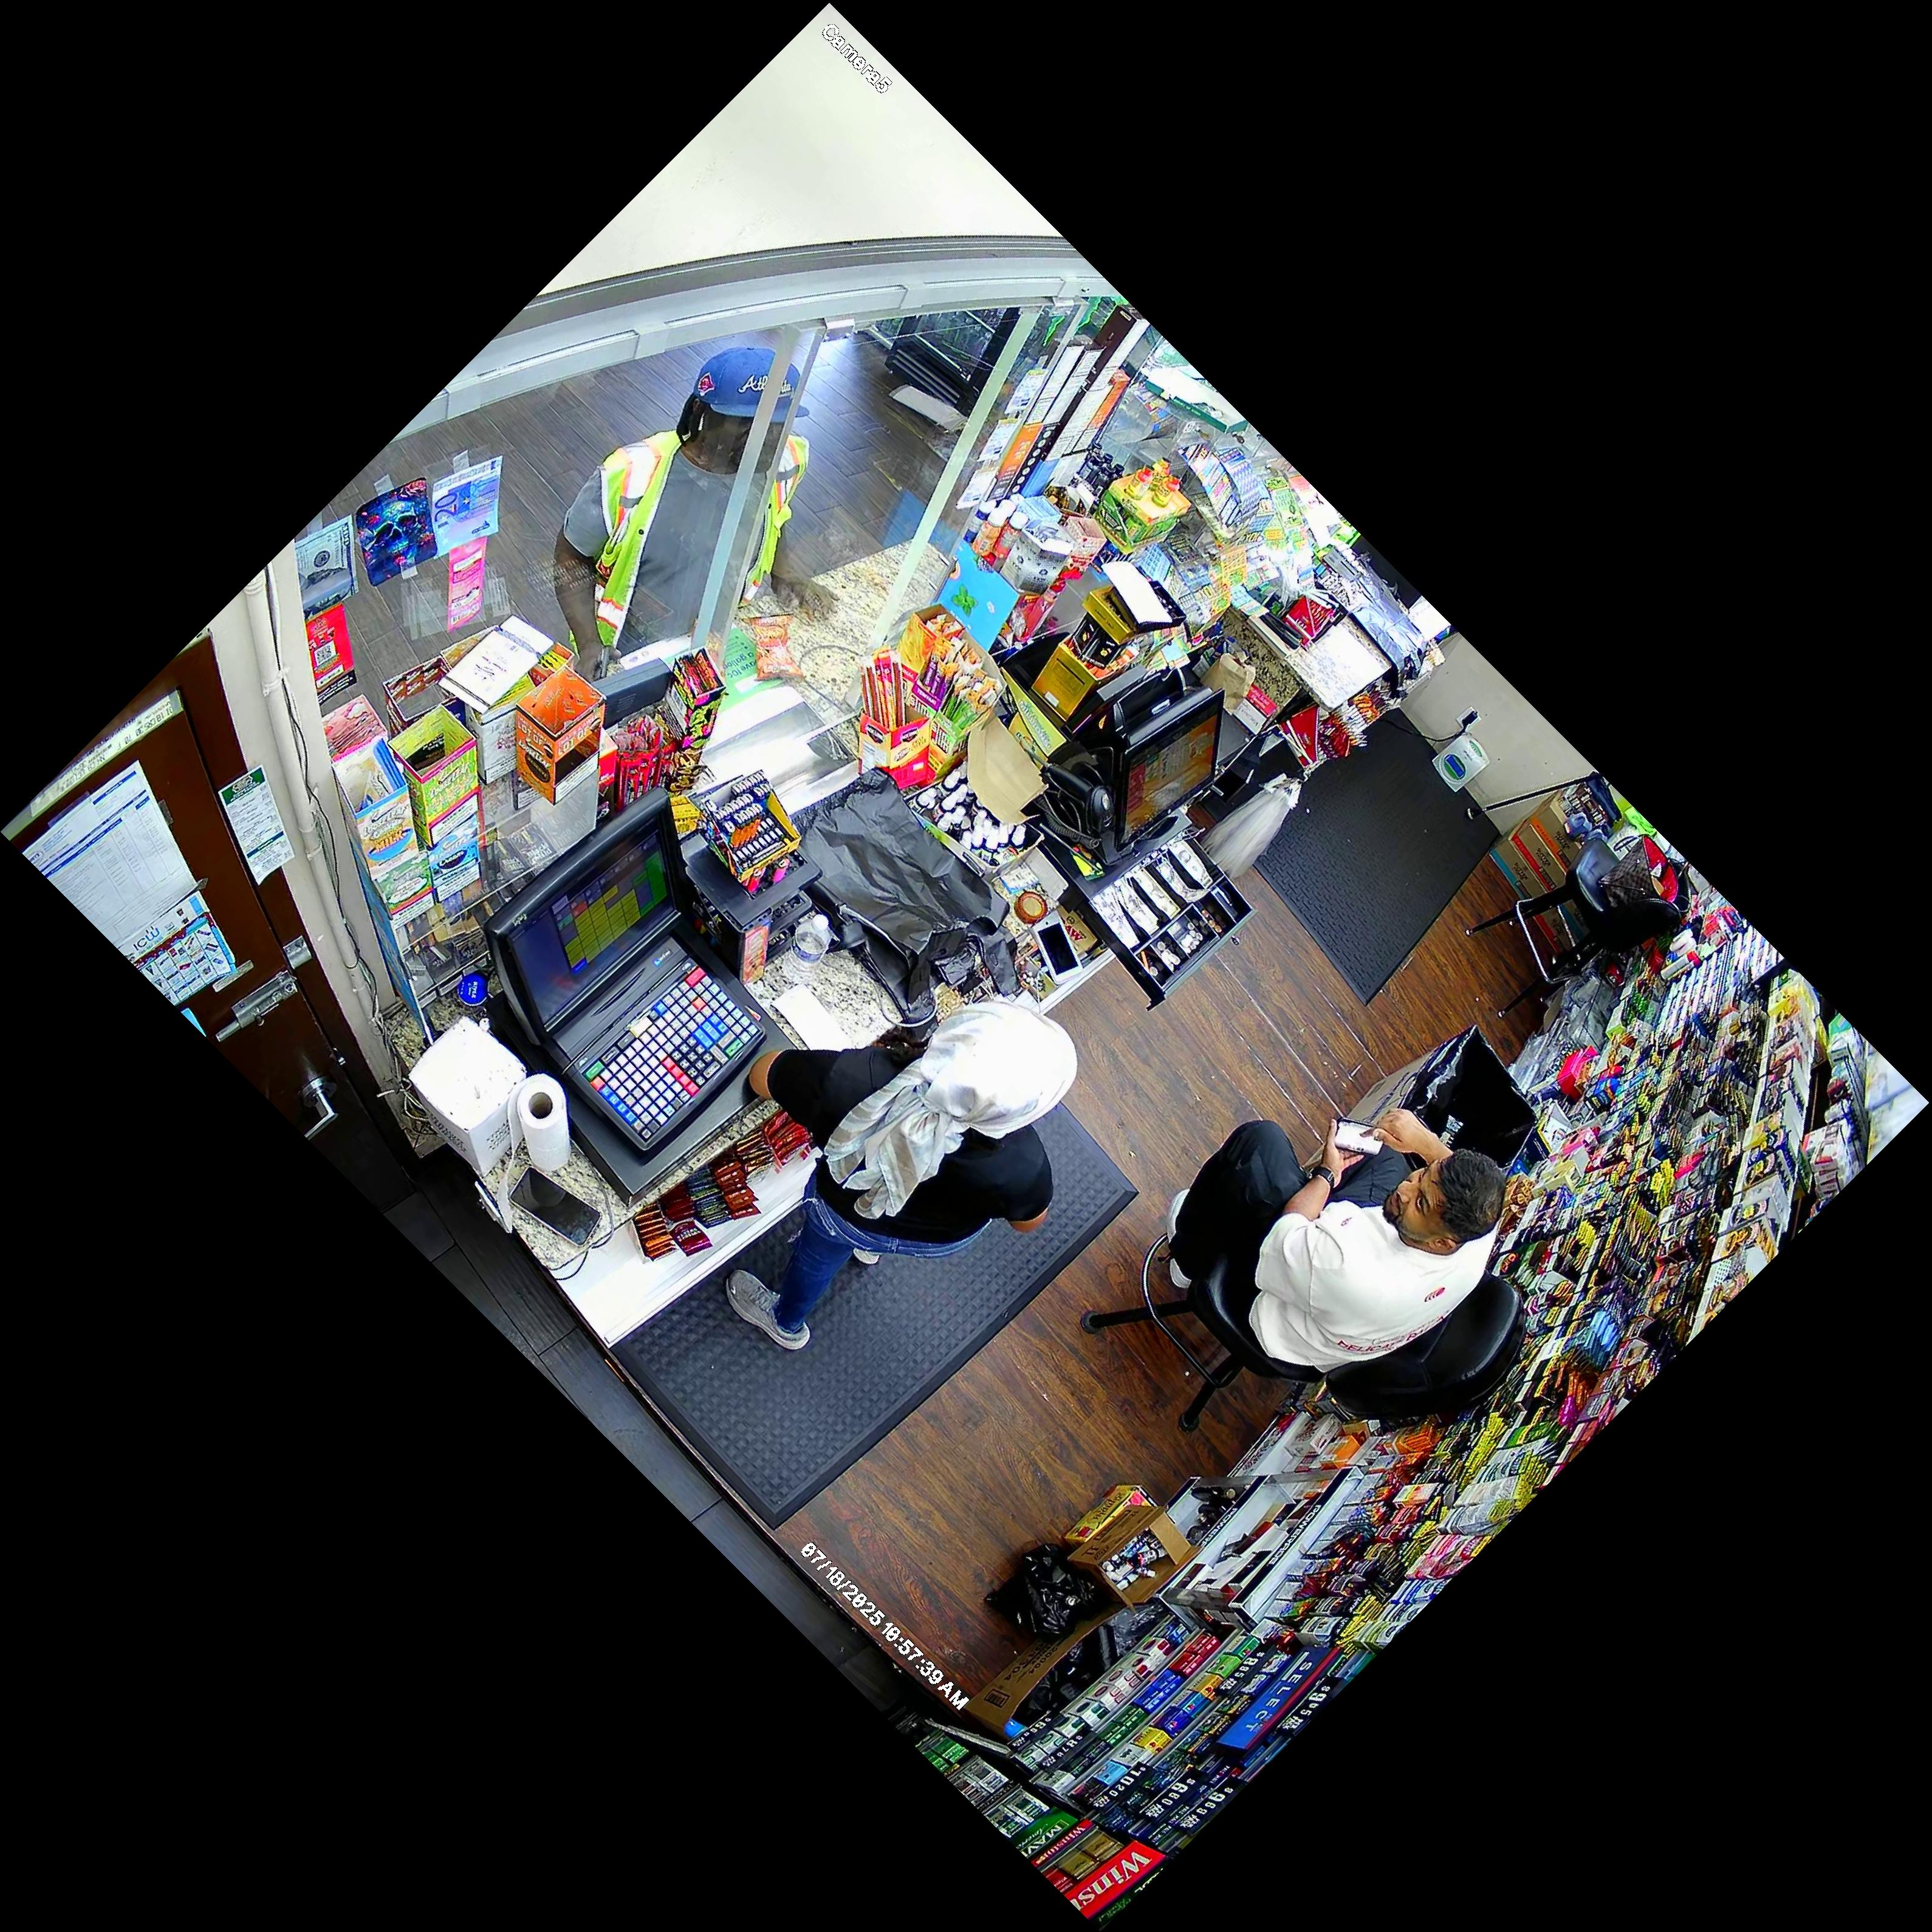phone: (1318, 1106, 1394, 1166), (579, 642, 617, 690)
